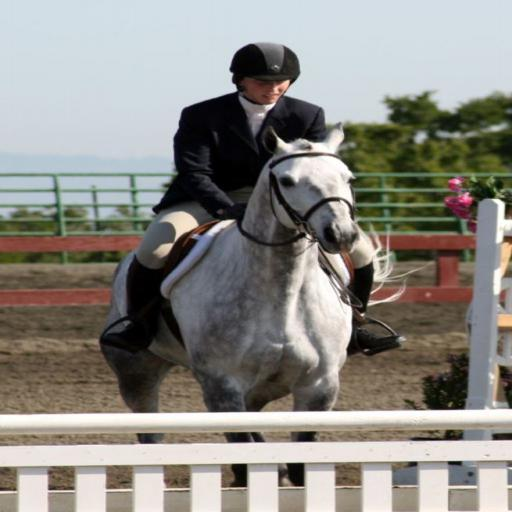horse: (99, 118, 426, 488)
